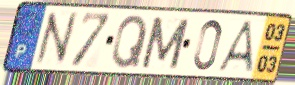0: (193, 18, 224, 72)
7: (70, 11, 113, 69)
A: (215, 19, 255, 75)
M: (138, 15, 192, 71)
N: (33, 9, 80, 68)
Q: (110, 13, 150, 71)
